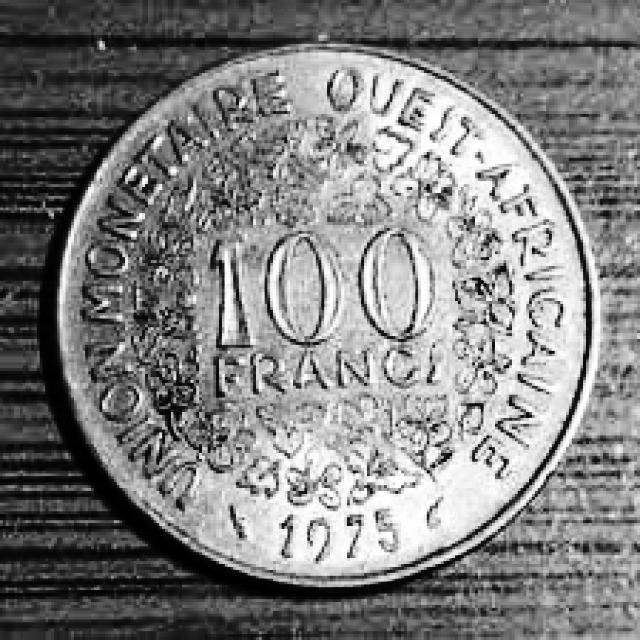niaari fukk: (46, 44, 598, 589)
